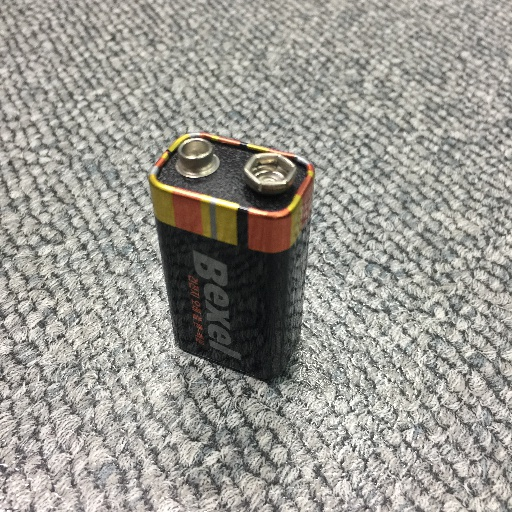Battery_3: (142, 110, 330, 404)
